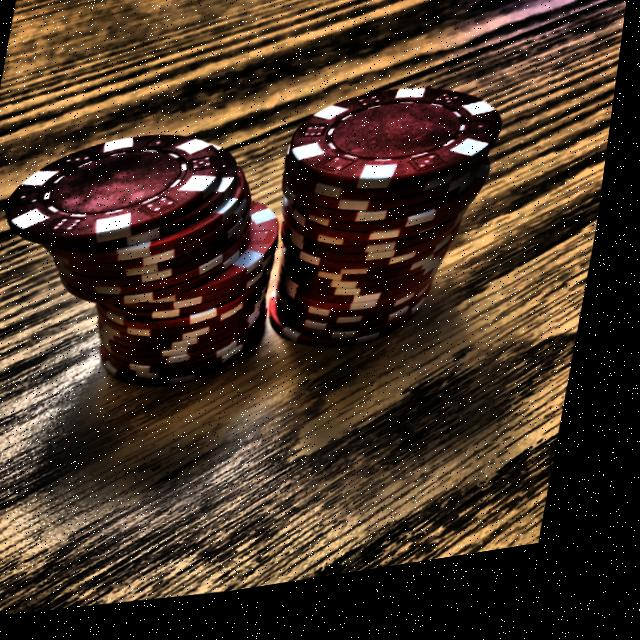Chip: (235, 46, 546, 403), (0, 88, 320, 421)
